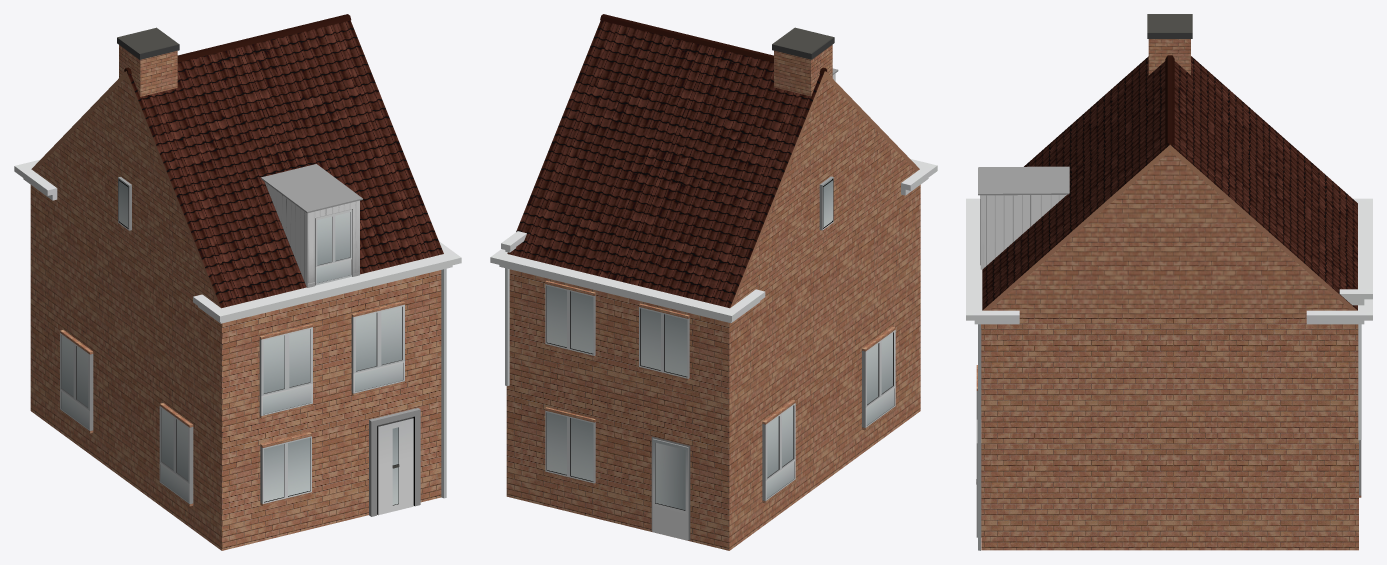
Rendered from Dwershus_6_en_It_Uleboerd_73.fbx.
3 views of the same model, side by side, from view 1: azimuth 30°, elevation 25°; view 2: azimuth 150°, elevation 25°; view 3: azimuth 270°, elevation 25° (orthographic).
Visible parts, largest first — view 1: Dwershus_6_en_It_Uleboerd_73; view 2: Dwershus_6_en_It_Uleboerd_73; view 3: Dwershus_6_en_It_Uleboerd_73.
Part boxes in pixels (x1,y1,x2,y2): Dwershus_6_en_It_Uleboerd_73: (14, 14, 461, 550); Dwershus_6_en_It_Uleboerd_73: (490, 14, 937, 550); Dwershus_6_en_It_Uleboerd_73: (966, 14, 1372, 550).
Bounding box in the file's own units: 651 × 1120 × 960.
